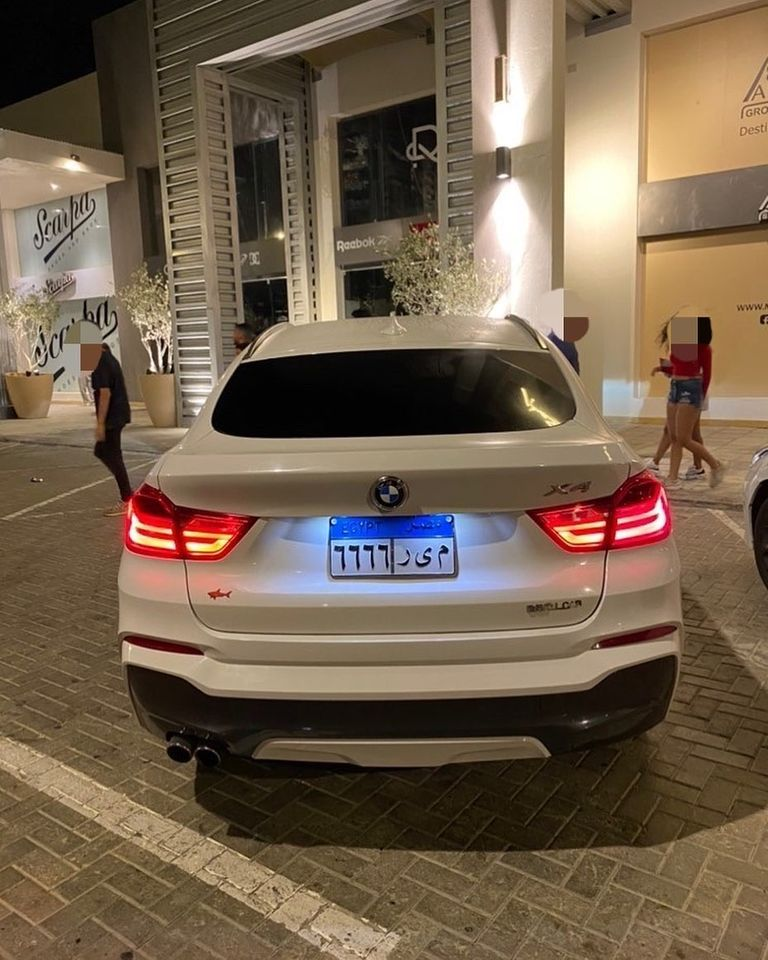carpl: (328, 534, 456, 578)
